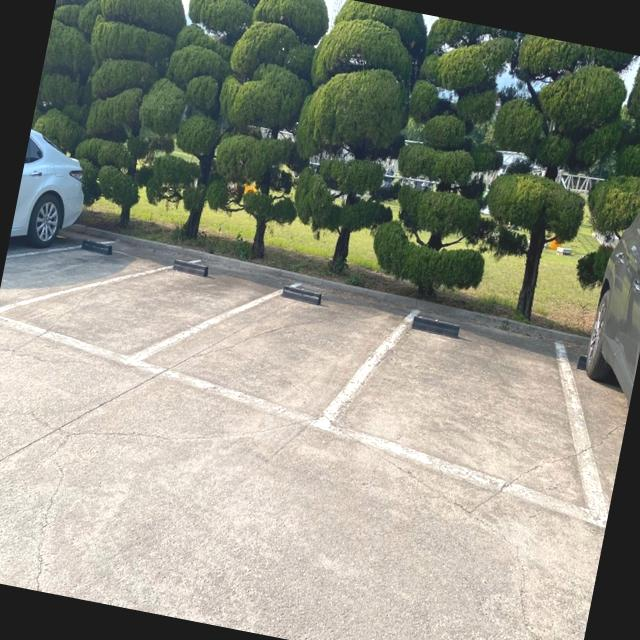free: (306, 306, 604, 534), (106, 279, 424, 436), (0, 256, 310, 370)
